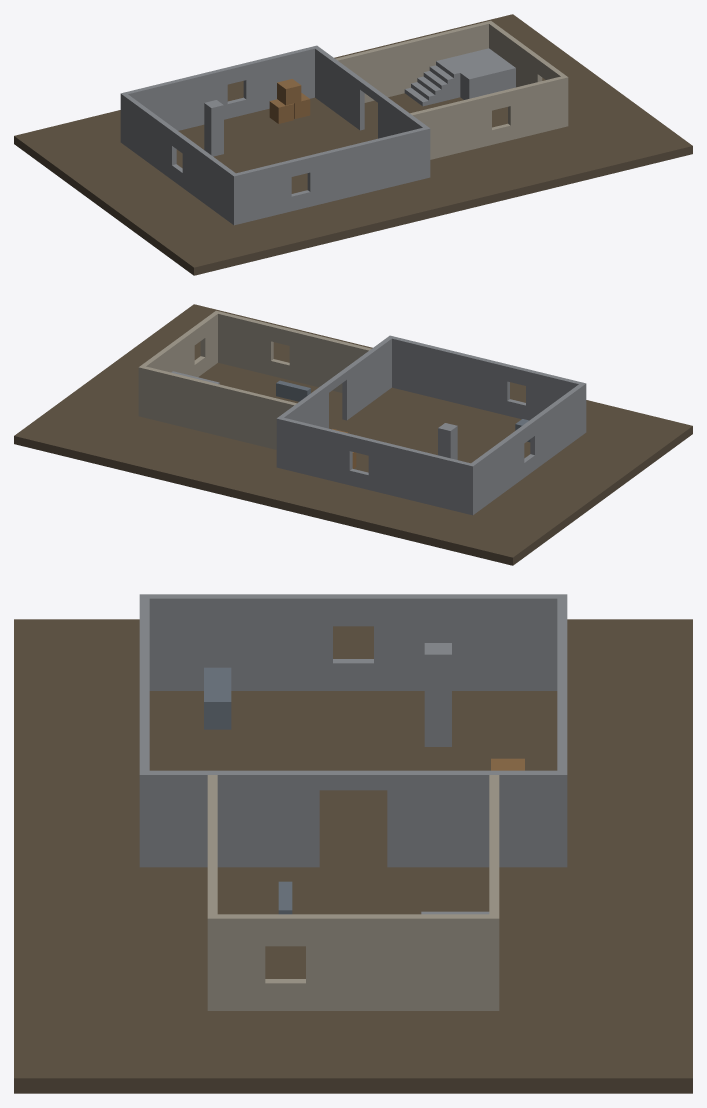
File: level.glb
3 views of the same model, one above another, from view 1: azimuth 30°, elevation 25°; view 2: azimuth 150°, elevation 25°; view 3: azimuth 270°, elevation 25° (orthographic). The views are drawn at different scales.
Parts seen in each view (by area): view 1: brush_000_dirt, brush_006_concrete, brush_021_plaster, brush_001_concrete, brush_022_plaster, brush_005_concrete, brush_002_concrete, brush_023_plaster, brush_009_concrete, brush_010_concrete, brush_013_concrete, brush_036_concrete (+6 smaller); view 2: brush_000_dirt, brush_021_plaster, brush_006_concrete, brush_001_concrete, brush_002_concrete, brush_022_plaster, brush_023_plaster, brush_010_concrete, brush_009_concrete, brush_014_concrete, brush_005_concrete, brush_026_plaster (+4 smaller); view 3: brush_000_dirt, brush_026_plaster, brush_010_concrete, brush_009_concrete, brush_013_concrete, brush_014_concrete, brush_027_plaster, brush_016_concrete, brush_006_concrete, brush_002_concrete, brush_020_metal, brush_021_plaster (+7 smaller).
Part boxes in pixels (<box>): brush_000_dirt: <box>14,14,692,275</box>; brush_006_concrete: <box>307,126,430,206</box>; brush_021_plaster: <box>335,22,488,102</box>; brush_001_concrete: <box>120,68,227,143</box>; brush_022_plaster: <box>410,94,491,159</box>; brush_005_concrete: <box>231,160,291,225</box>; brush_002_concrete: <box>243,45,319,114</box>; brush_023_plaster: <box>508,76,563,139</box>; brush_009_concrete: <box>123,94,176,179</box>; brush_010_concrete: <box>182,138,235,222</box>; brush_013_concrete: <box>315,47,364,130</box>; brush_036_concrete: <box>442,48,515,99</box>; brush_000_dirt: <box>14,304,692,565</box>; brush_021_plaster: <box>143,366,296,449</box>; brush_006_concrete: <box>387,335,509,415</box>; brush_001_concrete: <box>368,439,475,515</box>; brush_002_concrete: <box>276,416,352,485</box>; brush_022_plaster: <box>289,329,371,392</box>; brush_023_plaster: <box>218,312,273,375</box>; brush_010_concrete: <box>530,384,583,469</box>; brush_009_concrete: <box>471,428,524,512</box>; brush_014_concrete: <box>342,337,391,420</box>; brush_005_concrete: <box>526,369,586,433</box>; brush_026_plaster: <box>138,330,194,417</box>; brush_000_dirt: <box>14,619,692,1093</box>; brush_026_plaster: <box>306,914,499,1010</box>; brush_010_concrete: <box>149,594,332,690</box>; brush_009_concrete: <box>374,594,557,690</box>; brush_013_concrete: <box>387,770,557,867</box>; brush_014_concrete: <box>149,770,319,867</box>; brush_027_plaster: <box>207,914,265,1010</box>; brush_016_concrete: <box>424,643,451,746</box>; brush_006_concrete: <box>139,664,149,867</box>; brush_002_concrete: <box>557,707,567,867</box>; brush_020_metal: <box>204,667,231,729</box>; brush_021_plaster: <box>489,775,499,914</box>.
Bounding box in the file's own units: 32 × 3.5 × 20.
